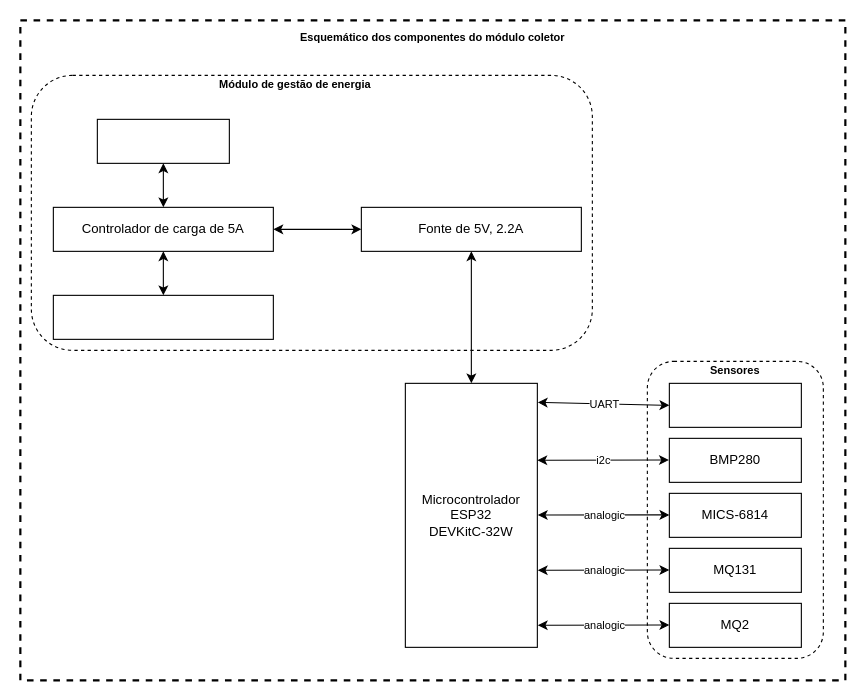
Image size: 865x700. Some labels were removed from this diagram. Each missing label, with the centre of its shape:
"Bateria de 12v 18ah" belongs at [162,316].
"Placa solar de 20W" belongs at [162,140].
"Winsen ZH03B" belongs at [734,404].
